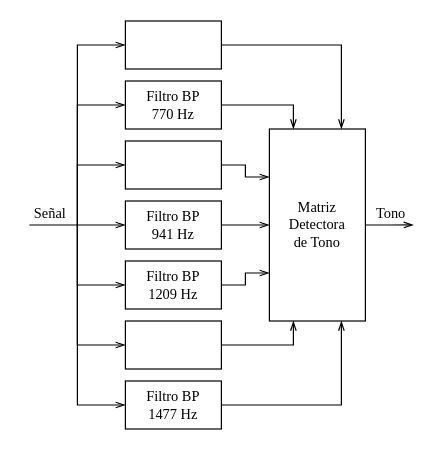
Image size: 444x450. Some labels were removed from this diagram. The shapes that lost their labels are listed below. From the top down, each one's centre as x and y in pixels, then its label:
At (172,44): "Filtro BP 697 Hz".
At (172,164): "Filtro BP 852 Hz".
At (172,344): "Filtro BP 1336 Hz".
